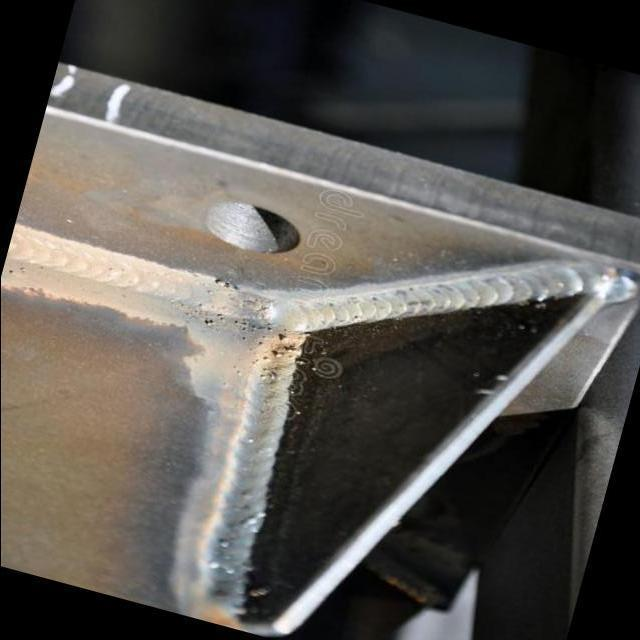defect: (229, 315, 299, 389), (205, 275, 246, 294), (199, 312, 229, 330)
